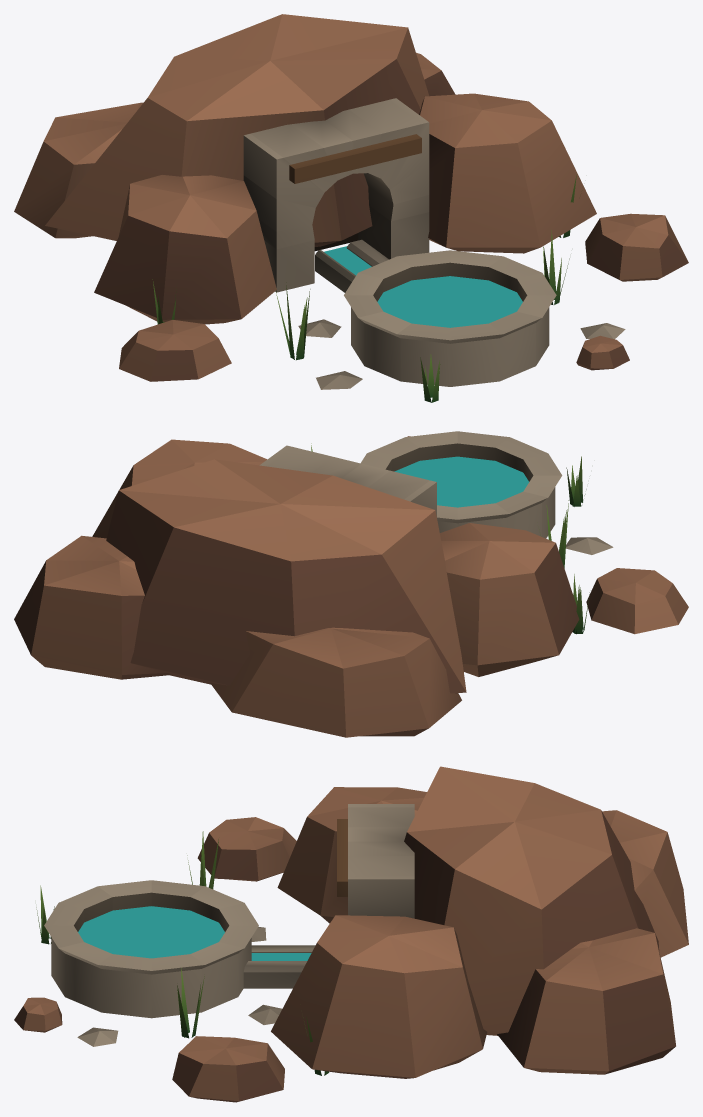
File: source.glb
3 views of the same model, one above another, from view 1: azimuth 30°, elevation 25°; view 2: azimuth 150°, elevation 25°; view 3: azimuth 270°, elevation 25° (orthographic). The views are drawn at different scales.
Visible parts, largest first — view 1: source, eau; view 2: source, eau; view 3: source, eau.
Boxes of the visible parts, x1,y1,x2,y2 form: source: [14, 14, 688, 402]; eau: [324, 246, 522, 327]; source: [14, 431, 688, 737]; eau: [394, 456, 528, 507]; source: [14, 766, 688, 1102]; eau: [78, 906, 311, 960].
Bounding box in the file's own units: 1.71 × 0.4591 × 1.82.
